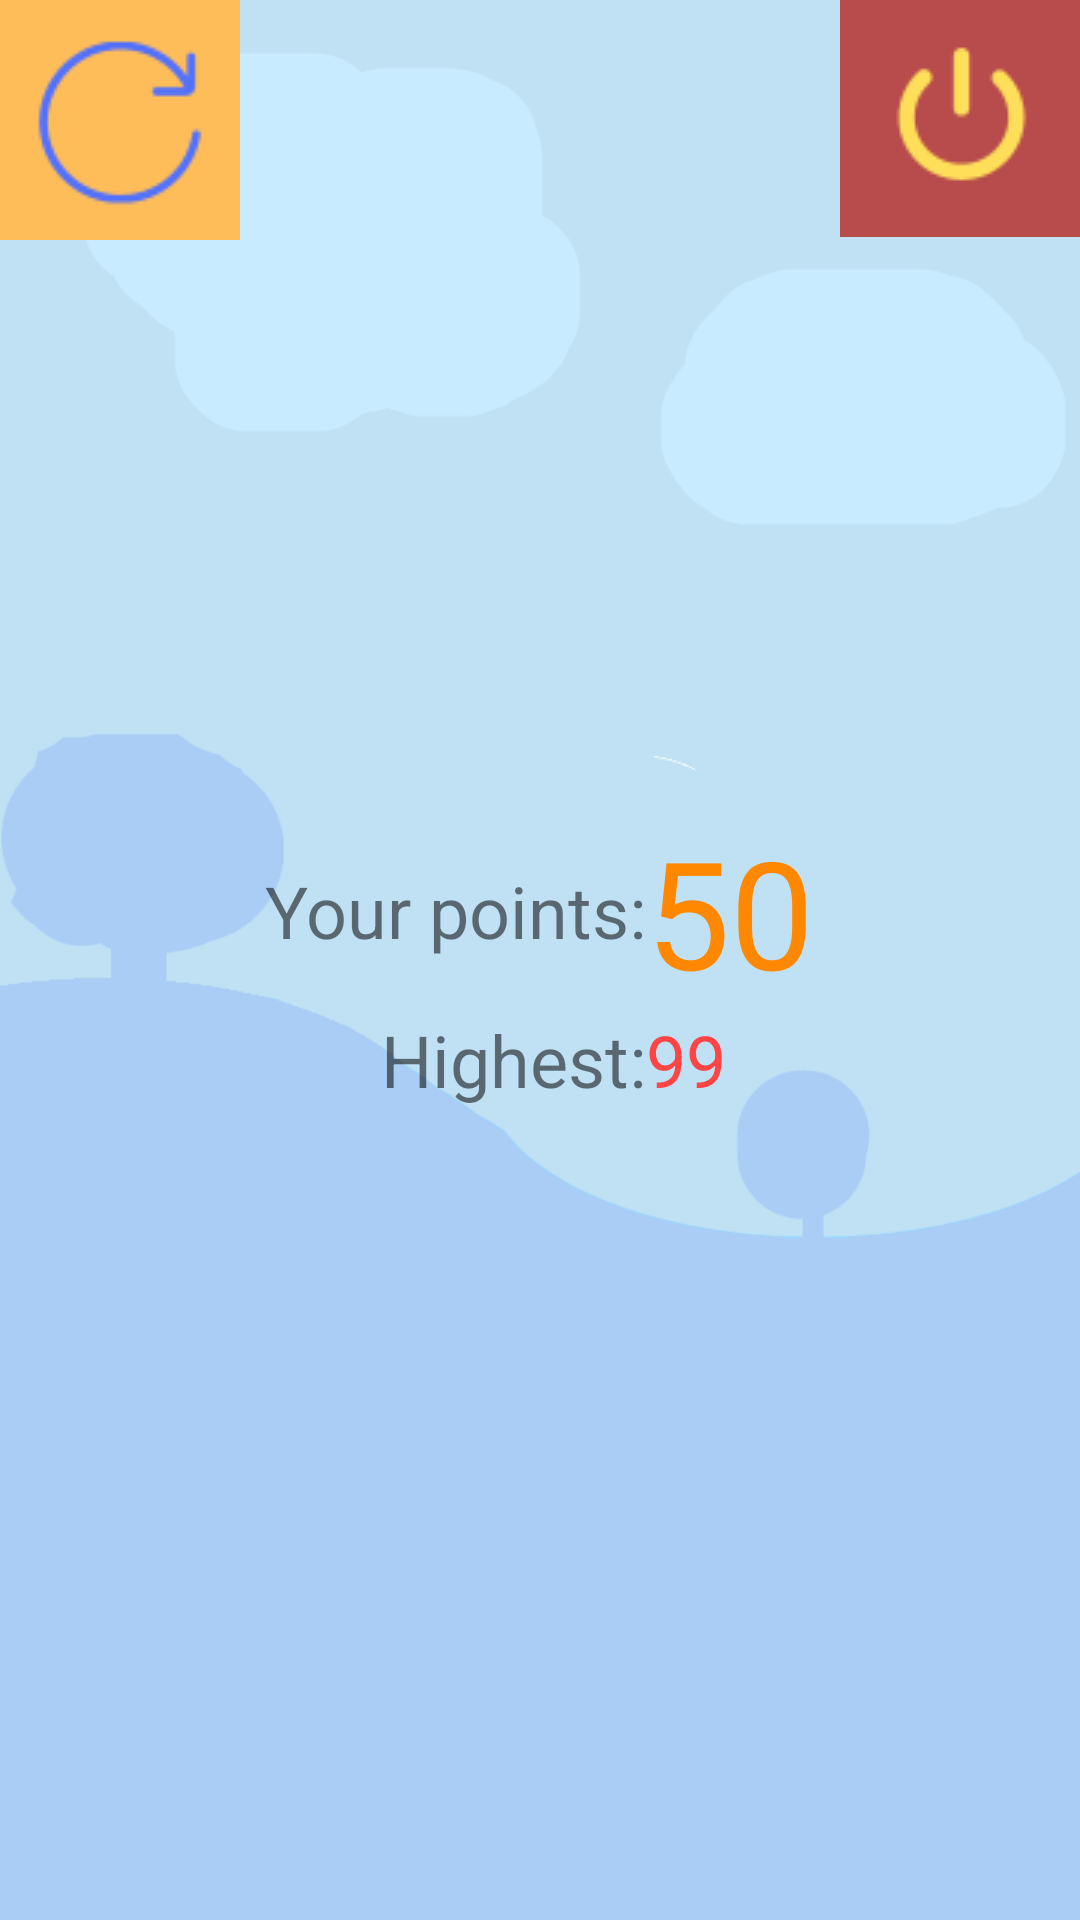

Icons on this 1080×1920 Android screen, each with the point to tap as (x,y):
exit: (960,118)
restart: (120,120)
